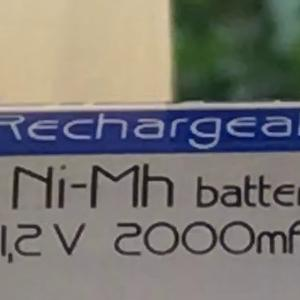NI-MH: (2, 153, 184, 220)
